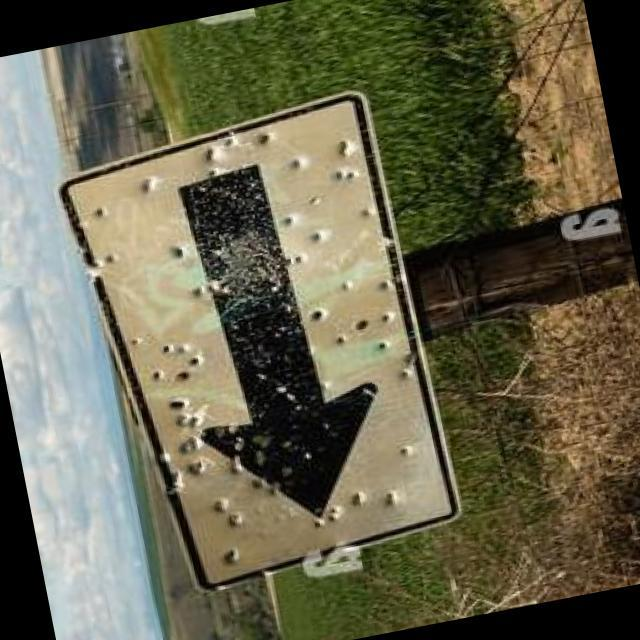obstructed_road_sign: (62, 92, 458, 586)
